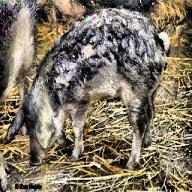boar: (2, 6, 170, 170)
